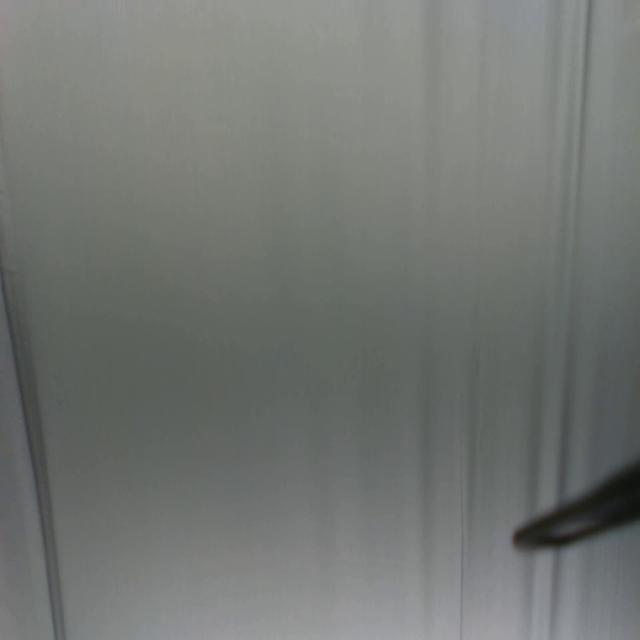crease: (455, 439, 467, 640)
